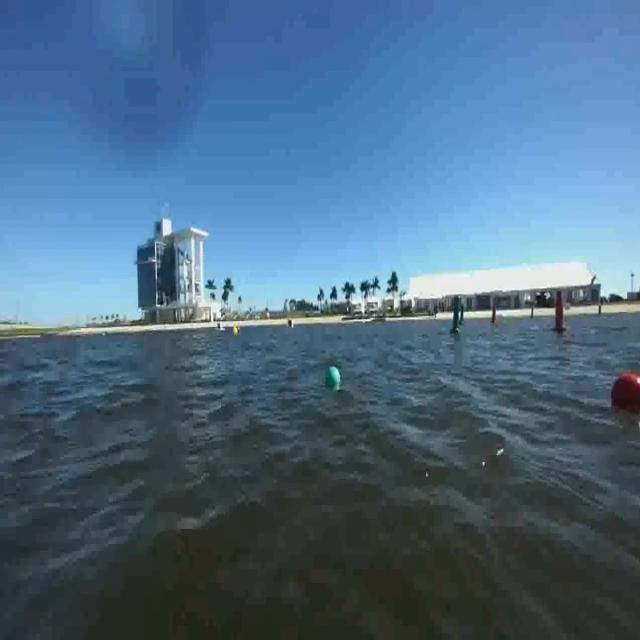green-buoy: (328, 366, 342, 386)
green-column-buoy: (450, 296, 460, 336)
red-buoy: (613, 374, 640, 414)
red-column-buoy: (554, 291, 568, 333), (491, 304, 498, 327)
